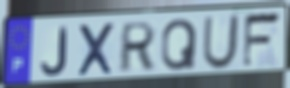F: (241, 10, 284, 71)
J: (39, 25, 68, 78)
Q: (159, 17, 199, 73)
R: (116, 20, 158, 75)
U: (201, 13, 242, 71)
X: (76, 21, 116, 79)
